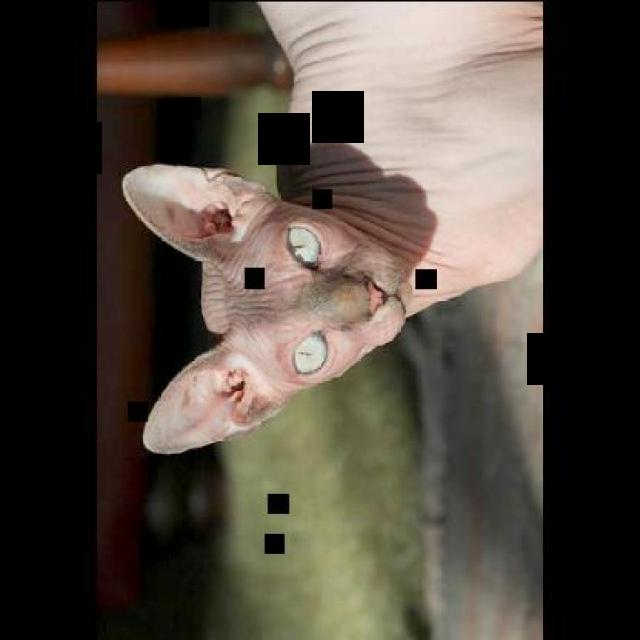unauthorized: (120, 143, 438, 455)
